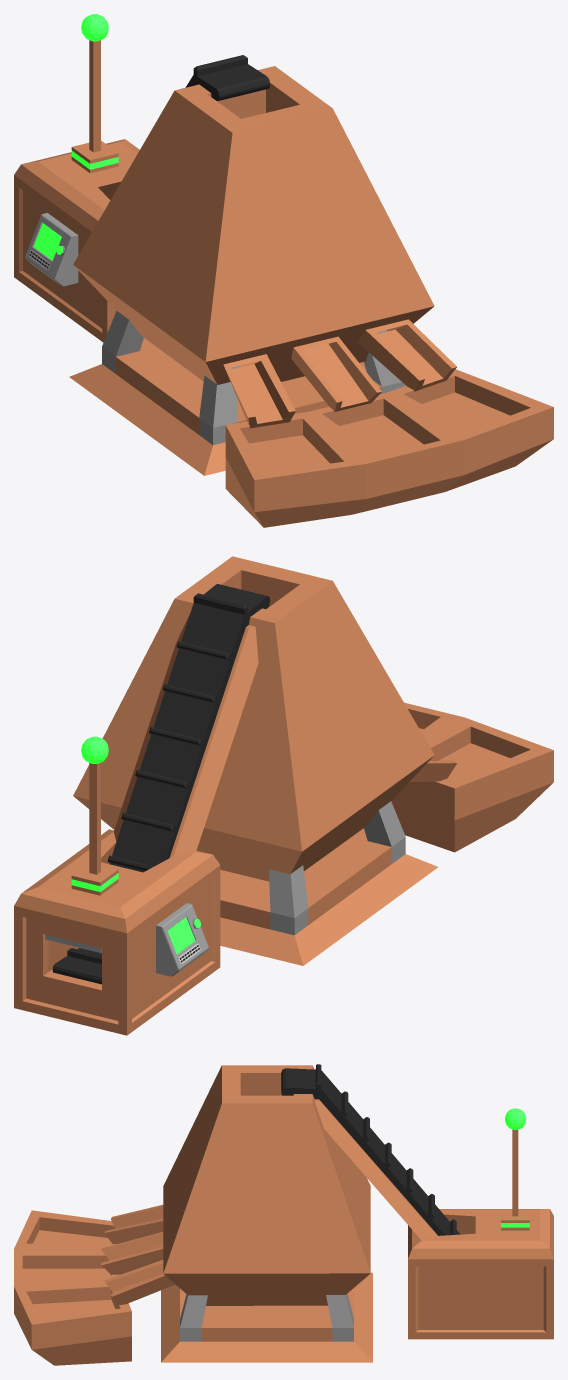
File: smelter.glb
The picture shows the model from 3 angles, top to bottom: view 1: azimuth 30°, elevation 25°; view 2: azimuth 150°, elevation 25°; view 3: azimuth 270°, elevation 25°; orthographic projection. The views are drawn at different scales.
Visible parts, largest first — view 1: Cube.002, Cube, Plane, Cube.001, Screen, Cube.003, ElectricalHook; view 2: Cube.002, Cube.001, Cube.003, Plane, Cube, Screen, ElectricalHook; view 3: Cube.002, Cube.001, Cube, Plane, Cube.003, ElectricalHook.
Boxes of the visible parts, x1,y1,x2,y2 form: Cube.002: [73, 66, 456, 428]; Cube: [225, 369, 553, 527]; Plane: [69, 311, 405, 475]; Cube.001: [14, 40, 139, 342]; Screen: [25, 213, 78, 286]; Cube.003: [185, 55, 269, 100]; ElectricalHook: [81, 14, 108, 41]; Cube.002: [73, 556, 456, 881]; Cube.001: [14, 612, 258, 1035]; Cube.003: [52, 584, 269, 984]; Plane: [220, 801, 438, 965]; Cube: [391, 702, 553, 852]; Screen: [156, 903, 208, 976]; ElectricalHook: [81, 736, 108, 763]; Cube.002: [101, 1065, 370, 1305]; Cube.001: [314, 1099, 553, 1339]; Cube: [14, 1210, 131, 1365]; Plane: [161, 1272, 372, 1362]; Cube.003: [281, 1064, 460, 1235]; ElectricalHook: [505, 1108, 526, 1129].
Size of the model in its own units: 4.58 by 4.56 by 9.12.
